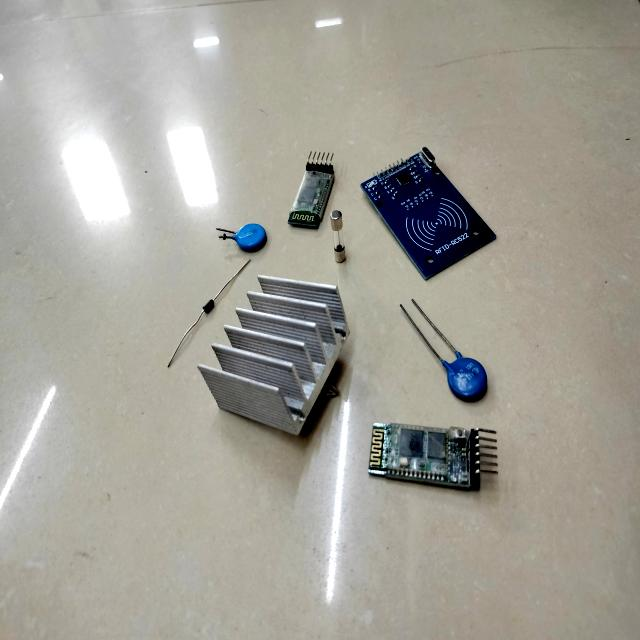capacitor: (447, 357, 487, 403), (234, 224, 267, 253)
